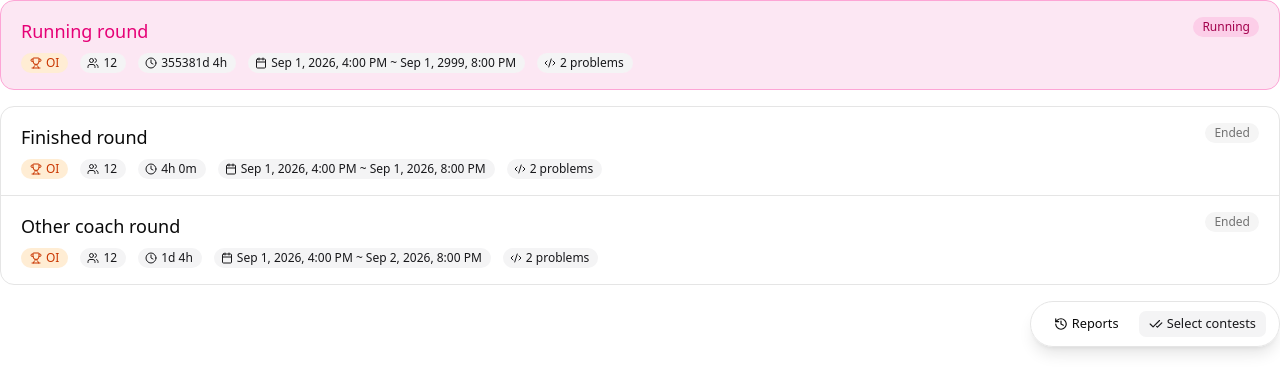
Scenario: contest analysis launcher › only offers finished contests the user manages
Click the button "Select contests" at [1202, 324], box 1138,310 -> 1267,338
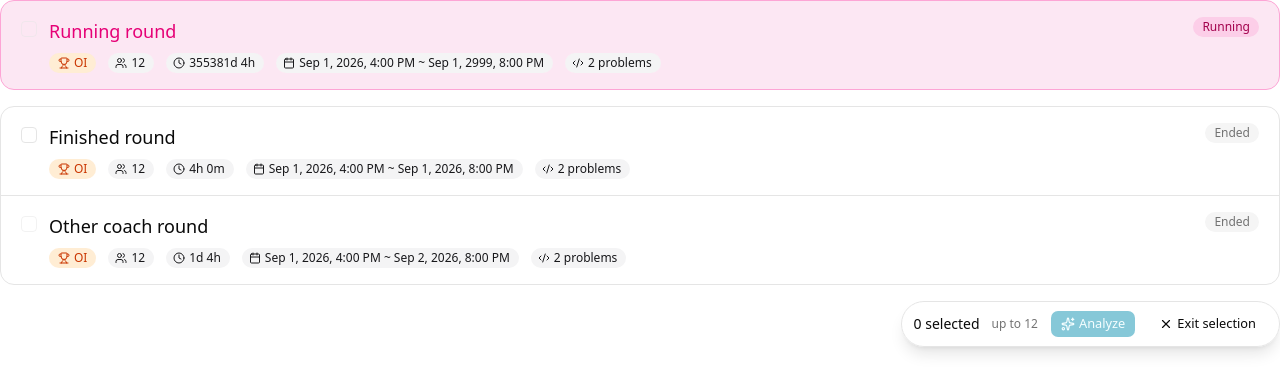
Check: the checkbox named "Select contest: Finished round" is enabled, box 21,127 -> 37,143
